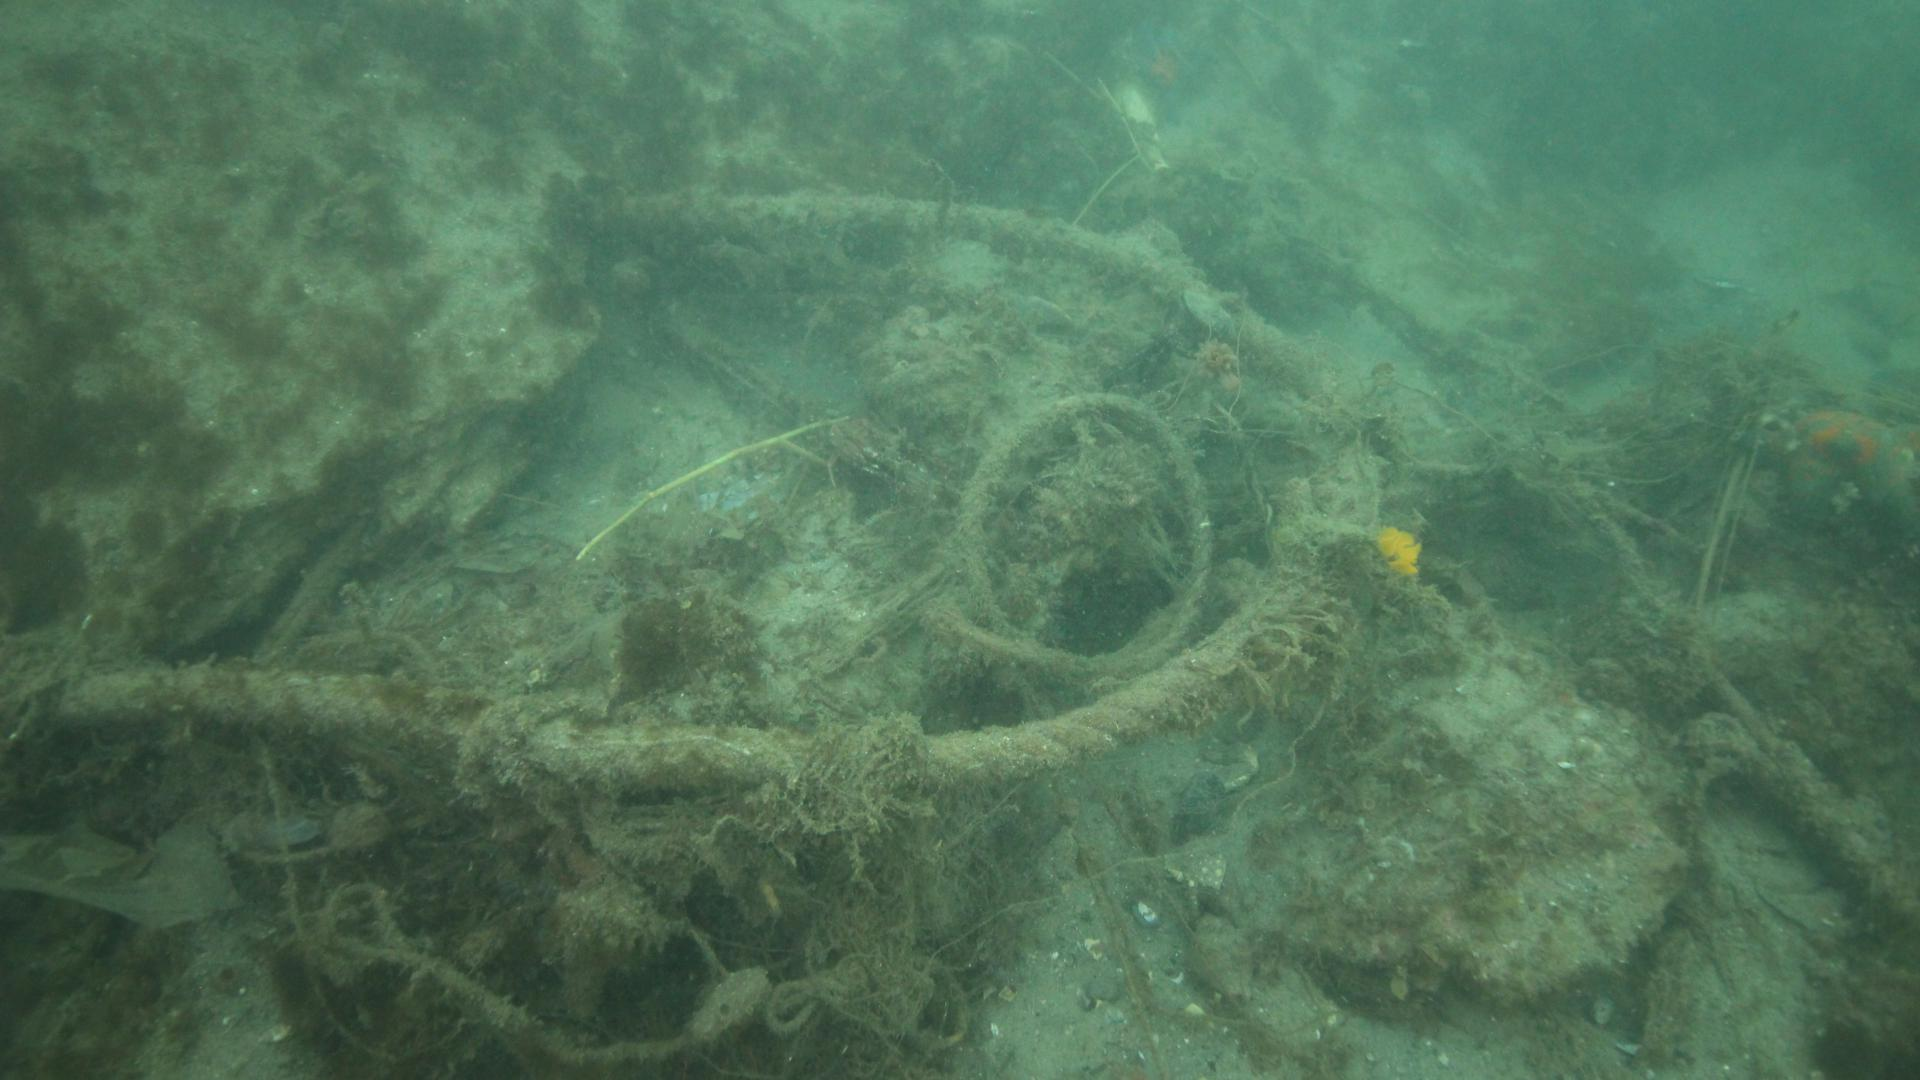bundle of ropes: (55, 194, 1323, 789)
